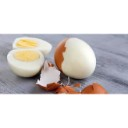begg: (7, 35, 51, 65)
